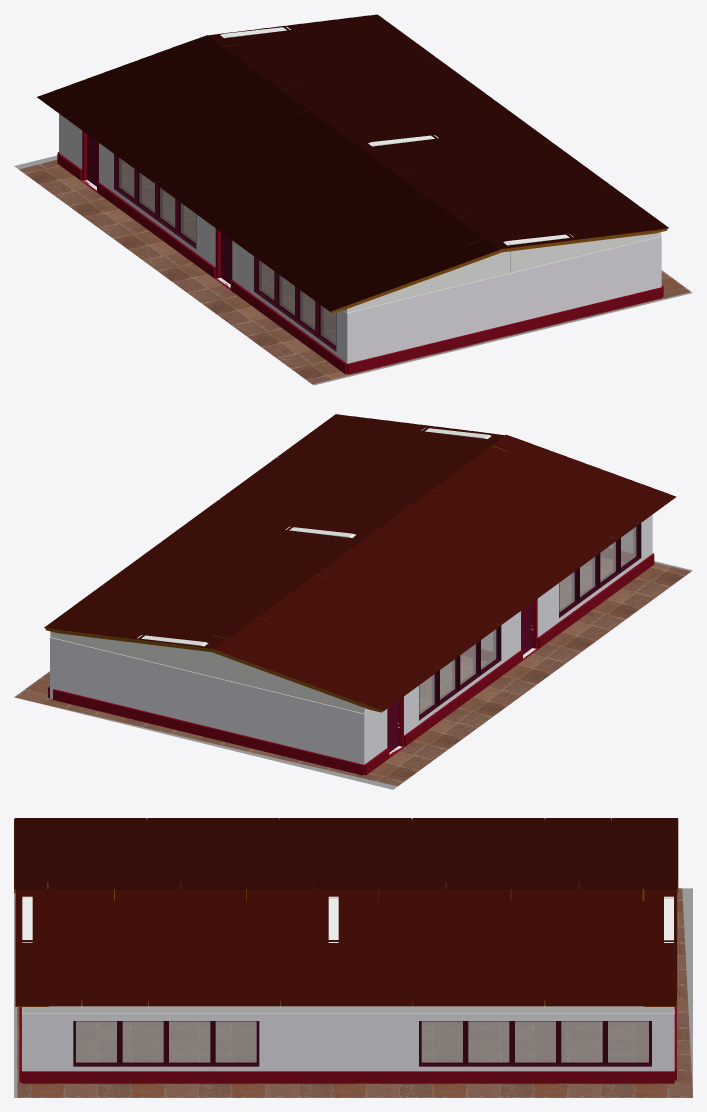
3 views of the same model, one above another, from view 1: azimuth 30°, elevation 25°; view 2: azimuth 150°, elevation 25°; view 3: azimuth 270°, elevation 25° (orthographic). The views are drawn at different scales.
Visible parts, largest first — view 1: Tuile_1_162, Tuile_1_158, wall_3_23, room_14_90, wall_4_30, wall_3_21, wall_4_28, wall_11_74, wall_10_68, ground_1, sweethome3d_opening_on_hinge_1_Exterior_door_2_PAINT_gloss_white, Poutre_1_3_160 (+1 smaller); view 2: Tuile_1_162, Tuile_1_158, wall_5_38, room_14_90, wall_4_30, wall_5_36, wall_4_28, wall_7_51, wall_6_45, ground_1, sweethome3d_opening_on_hinge_1_Exterior_door_2_PAINT_gloss_white, Poutre_1_3_164 (+1 smaller); view 3: Tuile_1_158, Tuile_1_162, room_14_90, wall_1_7, wall_1_5, wall_13_86, ground_1, sweethome3d_window_pane_121, sweethome3d_window_pane_127, sweethome3d_window_pane_133, sweethome3d_window_pane_148, sweethome3d_window_pane_151 (+5 smaller).
Part boxes in pixels (x1,y1,x2,y2): Tuile_1_162: (37, 35, 499, 311); Tuile_1_158: (207, 14, 668, 249); wall_3_23: (355, 238, 653, 361); room_14_90: (19, 160, 690, 384); wall_4_30: (59, 114, 351, 363); wall_3_21: (347, 287, 662, 374); wall_4_28: (57, 153, 347, 374); wall_11_74: (344, 244, 510, 312); wall_10_68: (510, 232, 661, 272); ground_1: (14, 155, 692, 385); sweethome3d_opening_on_hinge_1_Exterior_door_2_PAINT_gloss_white: (87, 134, 231, 284); Poutre_1_3_160: (501, 229, 667, 252); Tuile_1_162: (214, 435, 676, 711); Tuile_1_158: (44, 414, 505, 648); wall_5_38: (57, 639, 356, 762); room_14_90: (14, 557, 690, 786); wall_4_30: (360, 514, 652, 764); wall_5_36: (53, 689, 364, 775); wall_4_28: (364, 554, 654, 775); wall_7_51: (200, 645, 366, 713); wall_6_45: (50, 631, 200, 673); ground_1: (24, 561, 692, 789); sweethome3d_opening_on_hinge_1_Exterior_door_2_PAINT_gloss_white: (388, 603, 532, 752); Poutre_1_3_164: (212, 649, 382, 712); Tuile_1_158: (15, 889, 676, 1006); Tuile_1_162: (14, 818, 677, 889); room_14_90: (17, 888, 692, 1097); wall_1_7: (22, 1014, 674, 1071); wall_1_5: (22, 1071, 674, 1083); wall_13_86: (22, 1005, 663, 1013); ground_1: (14, 888, 692, 1097); sweethome3d_window_pane_121: (468, 1021, 509, 1062); sweethome3d_window_pane_127: (561, 1021, 602, 1062); sweethome3d_window_pane_133: (421, 1021, 462, 1062); sweethome3d_window_pane_148: (215, 1021, 256, 1062); sweethome3d_window_pane_151: (169, 1021, 210, 1062).
Bounding box in the file's own units: 197 × 44.8 × 270.
Materials: 15 (1 with a texture image).
